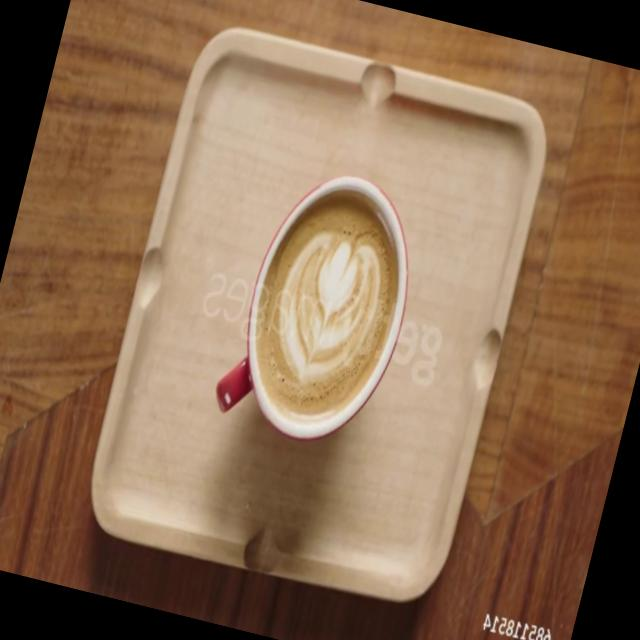cup: (207, 154, 433, 458)
tray: (76, 16, 560, 616)
